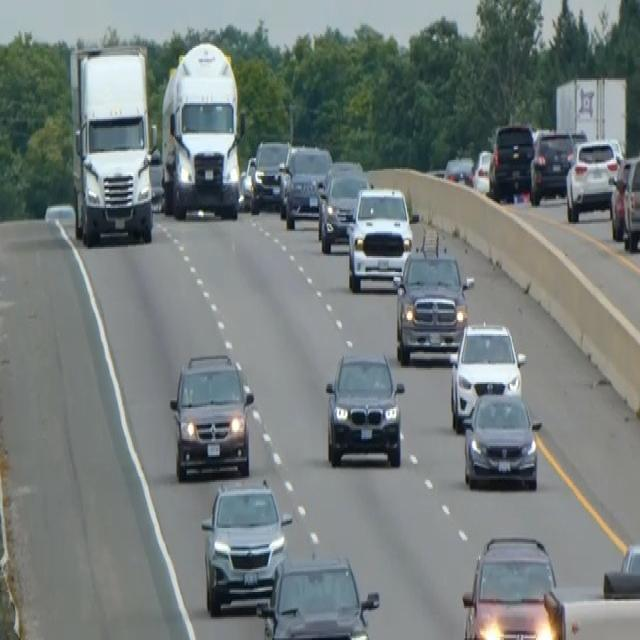car: (200, 477, 291, 615), (168, 350, 254, 480), (255, 551, 380, 638), (392, 238, 473, 364), (461, 534, 558, 638), (324, 348, 405, 468), (448, 320, 525, 432), (462, 389, 541, 491), (346, 185, 414, 291), (317, 162, 371, 252), (565, 135, 621, 221), (282, 142, 331, 228), (488, 121, 534, 201), (529, 128, 574, 204), (608, 153, 639, 249), (251, 137, 289, 208), (239, 153, 258, 210), (471, 148, 493, 194), (443, 153, 474, 185)
lorry: (68, 41, 156, 245), (160, 39, 245, 221)
truck: (544, 542, 639, 638)
